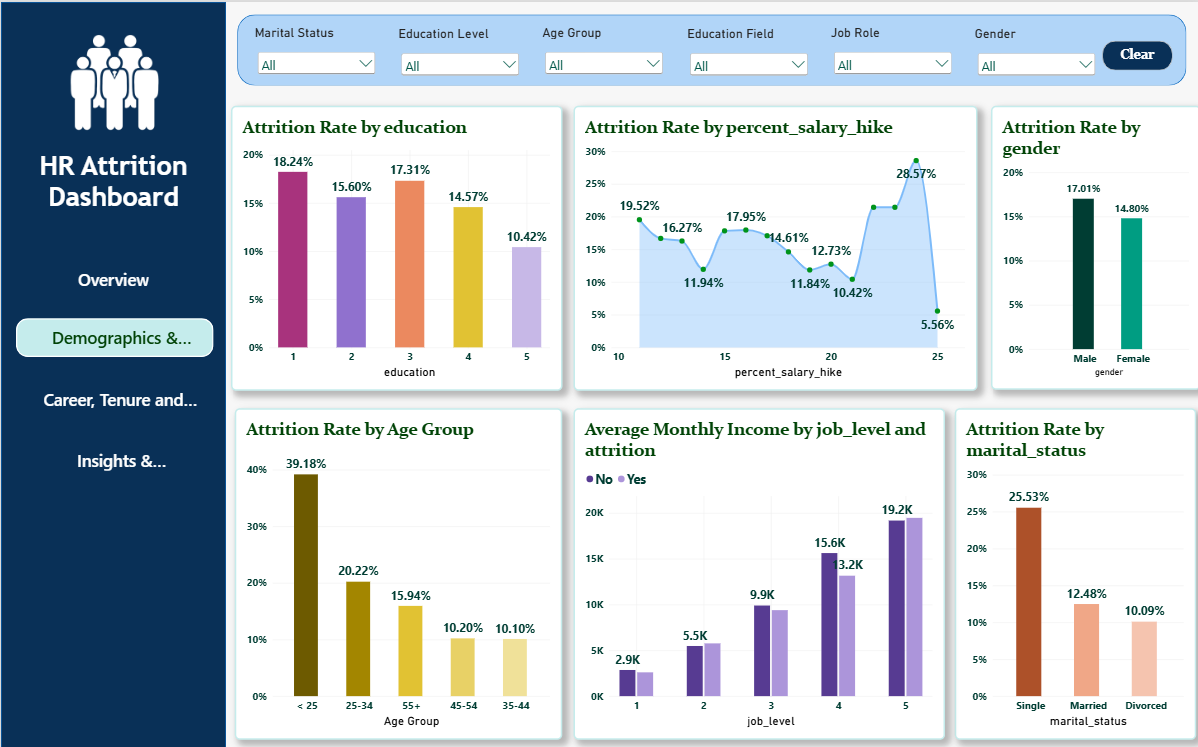

Layout of this report page (visuals, bound fields, positions):
{"tool":"powerbi","page":{"name":"Demographics and Compensation","canvas":[1920,1200],"ordinal":1},"visuals":[{"type":"shape","box":[0,0,360,1200],"z":0},{"type":"textbox","box":[0,182,360,184],"z":1000},{"type":"clusteredColumnChart","fields":{"Category":["Hr_attrition.Age Group"],"Y":["Hr_attrition.Attrition Rate"]},"box":[374,650,524,530],"z":2000},{"type":"columnChart","fields":{"Category":["Hr_attrition.gender"],"Y":["Hr_attrition.Attrition Rate"]},"box":[1584,166,336,454],"z":3000},{"type":"columnChart","fields":{"Category":["Hr_attrition.marital_status"],"Y":["Hr_attrition.Attrition Rate"]},"box":[1526,650,386,530],"z":4000},{"type":"clusteredColumnChart","fields":{"Category":["Hr_attrition.education"],"Y":["Hr_attrition.Attrition Rate"]},"box":[368,166,530,456],"z":5000},{"type":"clusteredColumnChart","fields":{"Category":["Hr_attrition.job_level"],"Y":["Hr_attrition.Average Monthly Income"],"Series":["Hr_attrition.attrition"]},"box":[915,650,594,530],"z":6000},{"type":"lineChart","fields":{"Category":["Hr_attrition.percent_salary_hike"],"Y":["Hr_attrition.Attrition Rate"]},"box":[916,166,646,456],"z":7000},{"type":"image","box":[84,50,194,158],"z":8000},{"type":"shape","box":[377.5,20,1518.8,113.8],"z":9000},{"type":"slicer","title":"Marital Status","fields":{"Values":["Hr_attrition.marital_status"]},"box":[406,36.8,198,80],"z":10000},{"type":"slicer","title":"Education Field","fields":{"Values":["Hr_attrition.education_field"]},"box":[1097.2,37.6,198,80],"z":11000},{"type":"slicer","title":"Age Group","fields":{"Values":["Hr_attrition.Age Group"]},"box":[866.8,36,198,80],"z":12000},{"type":"slicer","title":"Education Level","fields":{"Values":["Hr_attrition.education"]},"box":[636.4,37.2,198,80],"z":13000},{"type":"slicer","title":"Job Role","fields":{"Values":["Hr_attrition.job_role"]},"box":[1327.6,36.4,198,80],"z":14000},{"type":"slicer","title":"Gender","fields":{"Values":["Hr_attrition.gender"]},"box":[1558,38,198,80],"z":15000},{"type":"actionButton","box":[1761.2,62.5,112.5,47.5],"z":16000},{"type":"actionButton","box":[22,412,316,62],"z":17000},{"type":"actionButton","box":[22,601.3,316,68],"z":18000},{"type":"actionButton","box":[24,506.7,316,62],"z":19000},{"type":"actionButton","box":[24,702,316,62],"z":20000}]}

Visuals, with their boxes in screenshot pixels (x1, y1, x2, y2), scaled from the page's 1920x1200 canvas onto the 1198x747 screenshot:
shape: 0,0,225,746
textbox: 0,113,225,228
clusteredColumnChart - Hr_attrition.Age Group x Hr_attrition.Attrition Rate: 233,405,560,735
columnChart - Hr_attrition.gender x Hr_attrition.Attrition Rate: 988,103,1197,386
columnChart - Hr_attrition.marital_status x Hr_attrition.Attrition Rate: 952,405,1193,735
clusteredColumnChart - Hr_attrition.education x Hr_attrition.Attrition Rate: 230,103,560,387
clusteredColumnChart - Hr_attrition.job_level x Hr_attrition.Average Monthly Income: 571,405,942,735
lineChart - Hr_attrition.percent_salary_hike x Hr_attrition.Attrition Rate: 572,103,975,387
image: 52,31,173,129
shape: 236,12,1183,83
"Marital Status" slicer: 253,23,377,73
"Education Field" slicer: 685,23,808,73
"Age Group" slicer: 541,22,664,72
"Education Level" slicer: 397,23,521,73
"Job Role" slicer: 828,23,952,72
"Gender" slicer: 972,24,1096,73
actionButton: 1099,39,1169,68
actionButton: 14,256,211,295
actionButton: 14,374,211,417
actionButton: 15,315,212,354
actionButton: 15,437,212,476
